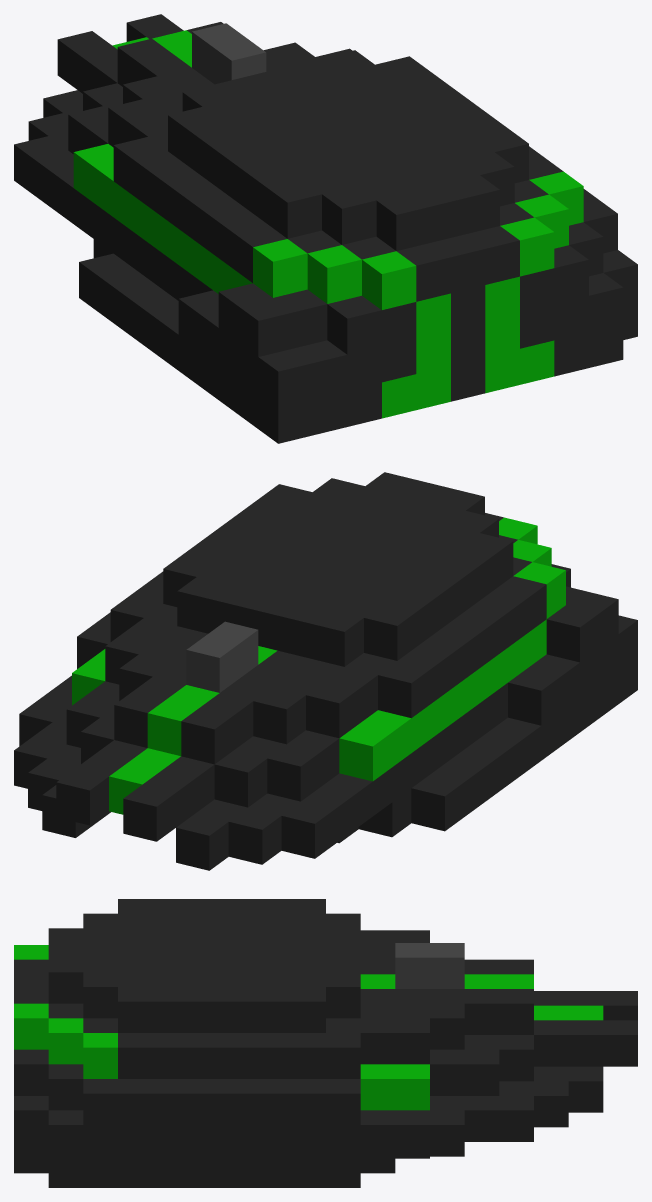
Rendered from Mouse.obj.
The picture shows the model from 3 angles, top to bottom: view 1: azimuth 30°, elevation 25°; view 2: azimuth 150°, elevation 25°; view 3: azimuth 270°, elevation 25°; orthographic projection. The views are drawn at different scales.
Size of the model in its own units: 1.1 by 0.5 by 1.8.
1 material, 1 textured.
